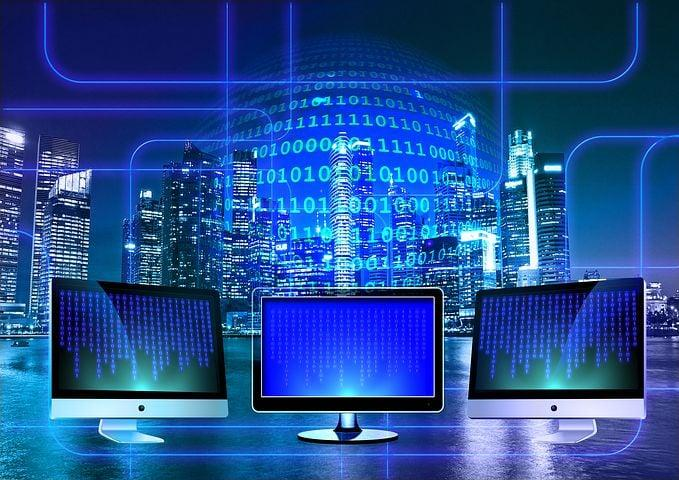monitor: (50, 275, 231, 420), (466, 275, 647, 419), (251, 286, 445, 413)
